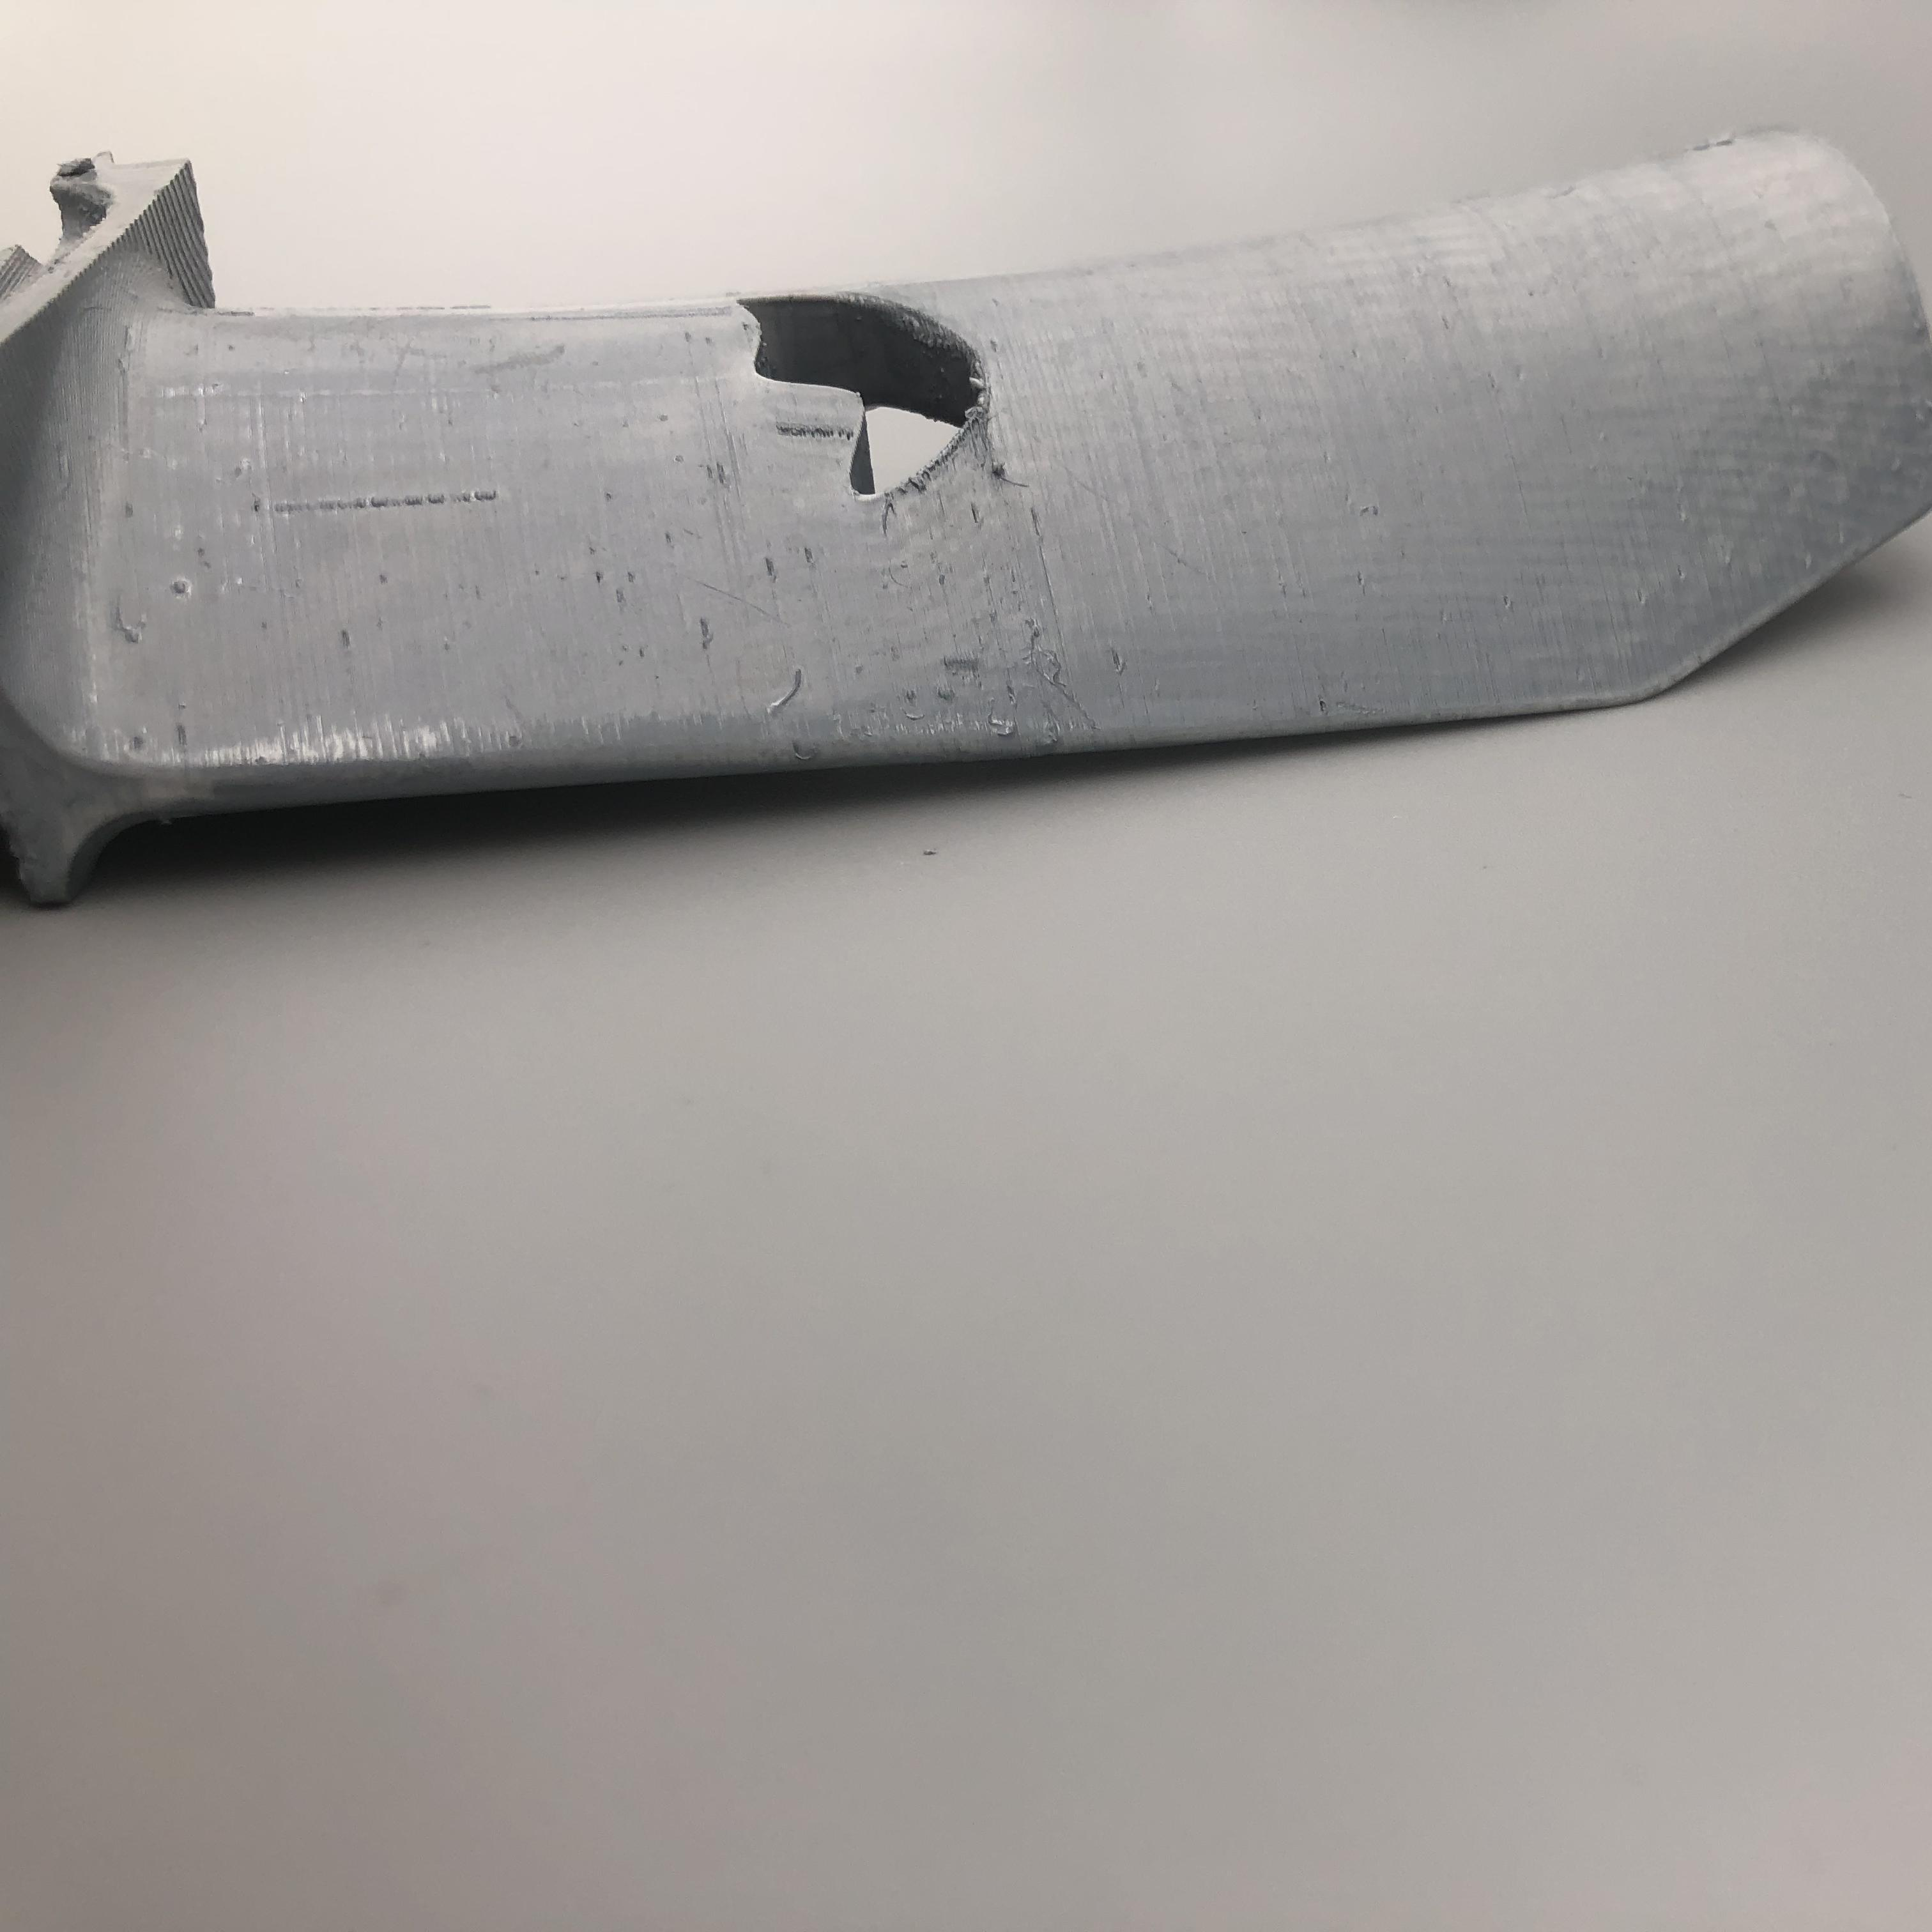breakdown: (722, 285, 1012, 504)
